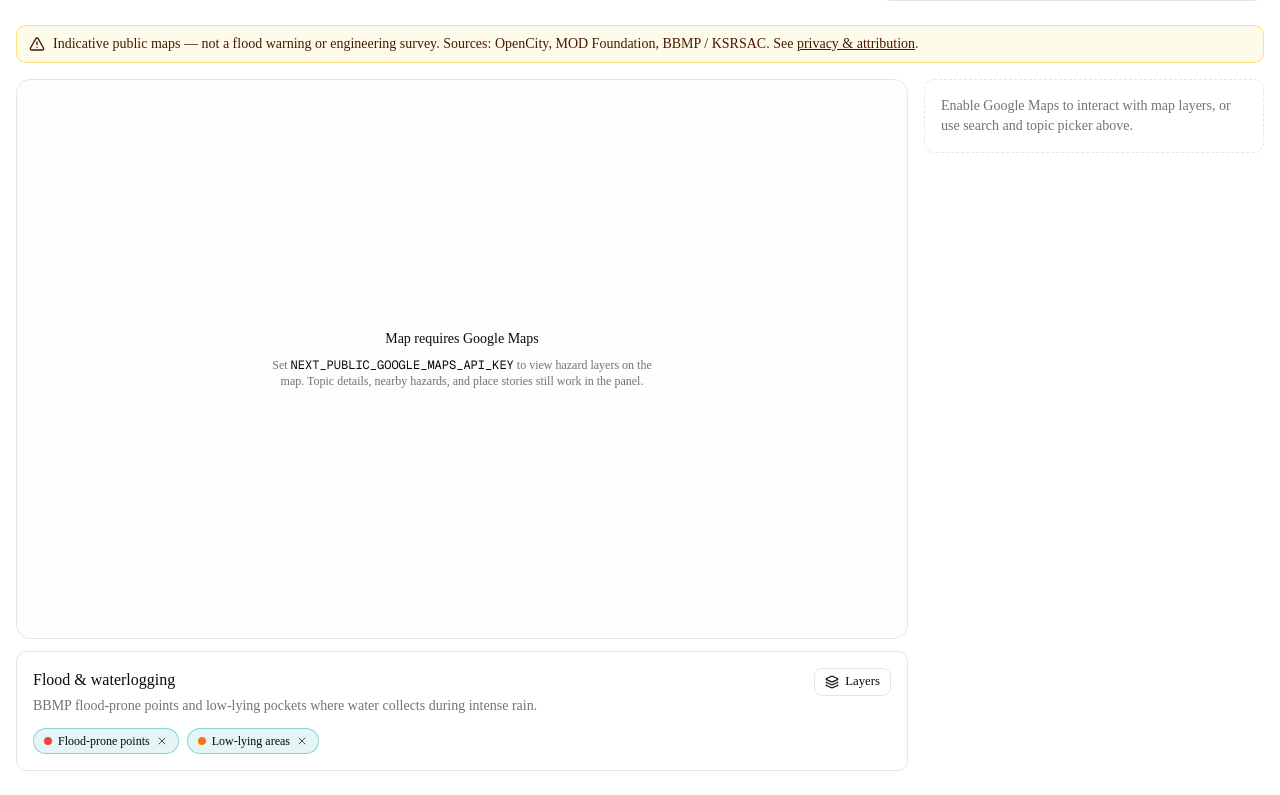
ExploreClient › reveals optional layer toggles
(page scrolled)
expect the button "valley systems" is not shown: met
What coordinates should you click on to do the following:
click the button "Layers"
I would click on:
 (853, 682)
Its box is [814, 668, 891, 696].
(page scrolled)
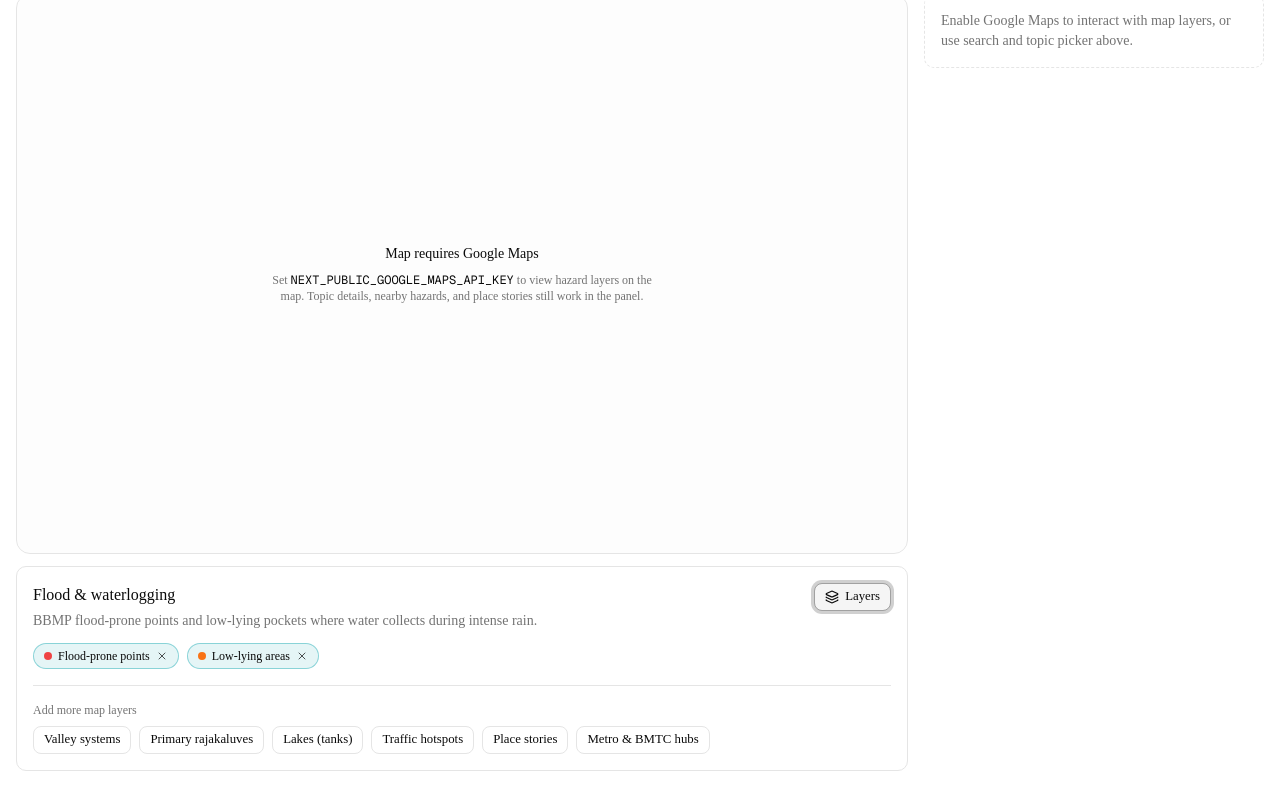
expect the button "Valley systems" is shown: met, box [33, 726, 131, 754]
